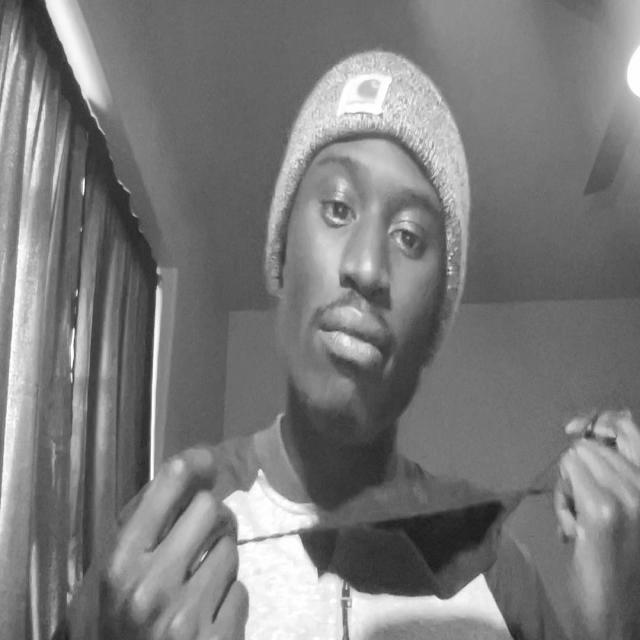real: (275, 133, 444, 438)
